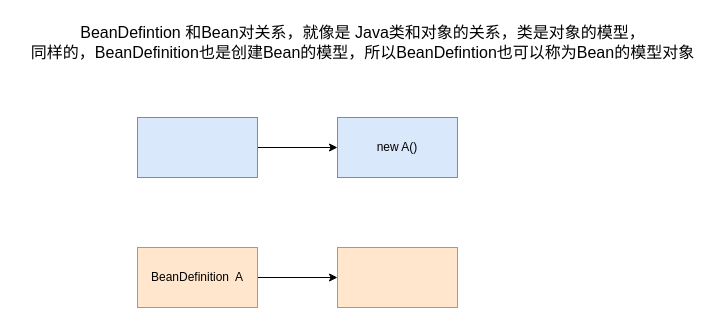
Some shapes in this 724 by 325 pixel diagram are drawn without their labels. Each missing label, with the centre of its shape:
"A.java / A.class" goes at pixel 197 147.
"Bean A" goes at pixel 397 277.
